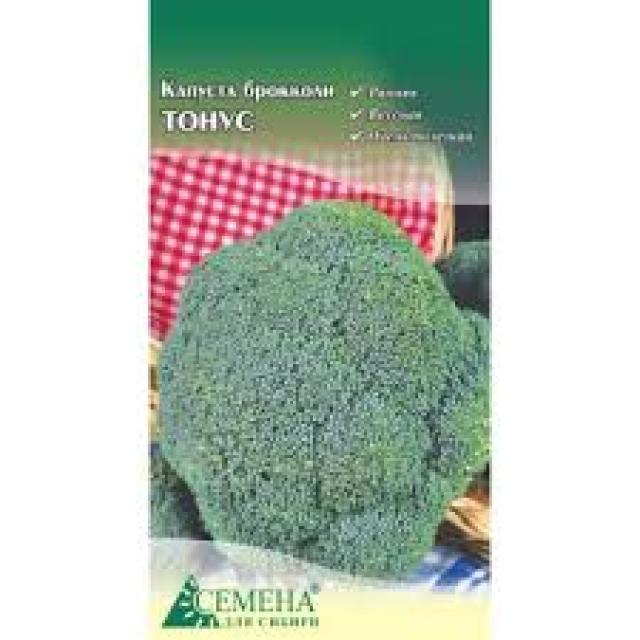broccoli: (146, 201, 501, 584)
